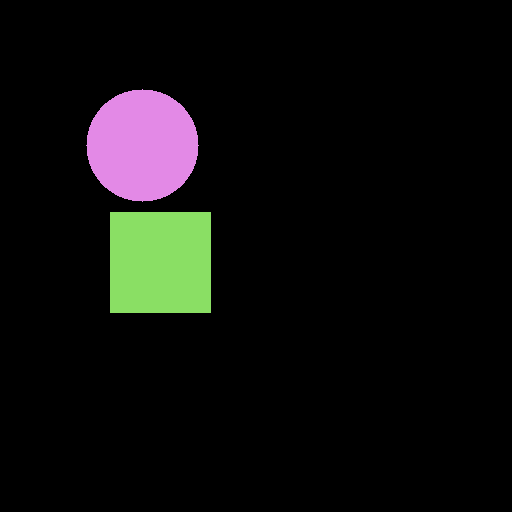circle: (86, 89, 198, 201)
square: (110, 212, 210, 312)
